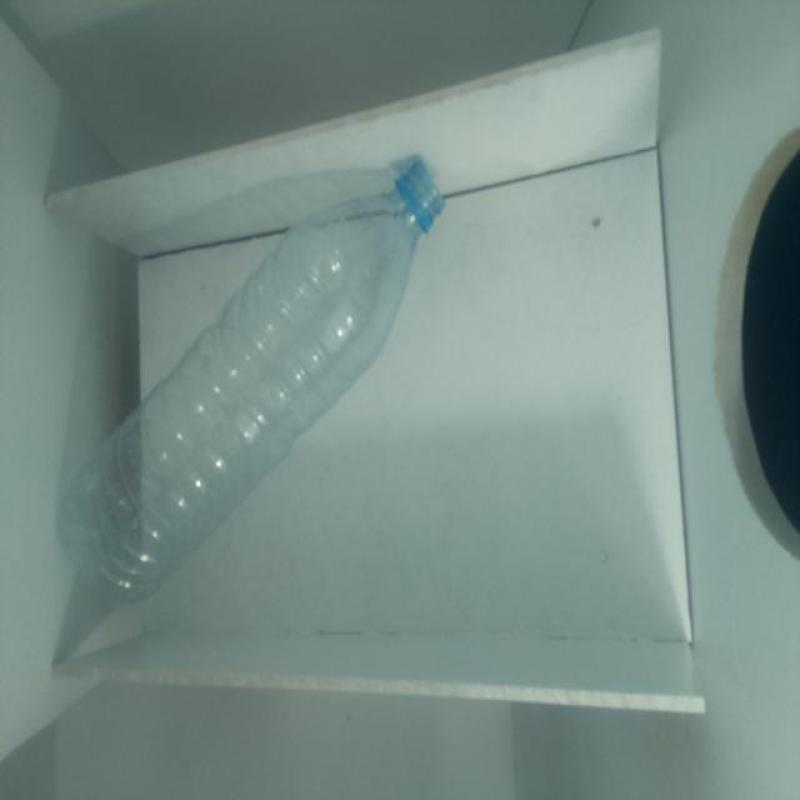botella: (55, 160, 446, 604)
